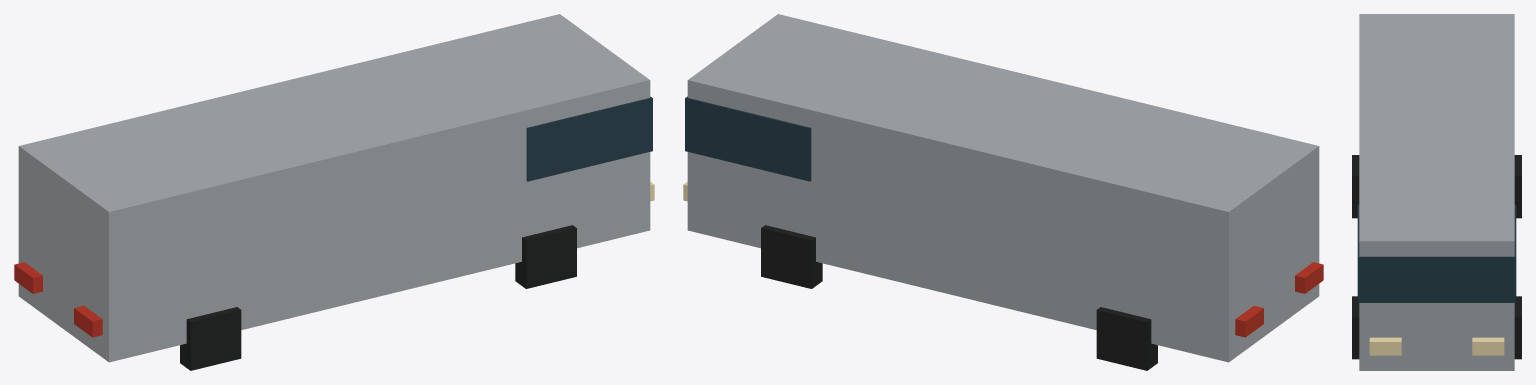
File: traffic-van-0.glb
3 renders of one model, left to right at view 1: azimuth 30°, elevation 25°; view 2: azimuth 150°, elevation 25°; view 3: azimuth 270°, elevation 25°, orthographic. The views are drawn at different scales.
Size of the model in its own units: 6.65 by 1.98 by 2.02.
